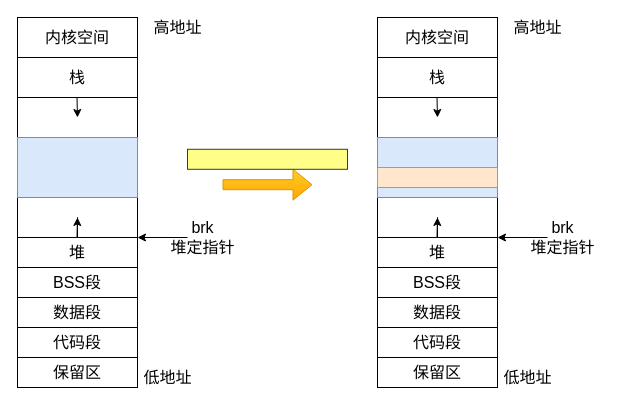
The diagram is 620 pixels wide and 405 high, and some of its shapes have lost their labels. The shapes that lost their labels are listed below. From the top down, each one's box as (x1, y1, x2, y2) in pixels, then its label:
(16, 136, 138, 198): 文件映射区
(186, 148, 348, 169): mmap方式申请内存
(376, 166, 498, 188): 申请的内存空间
